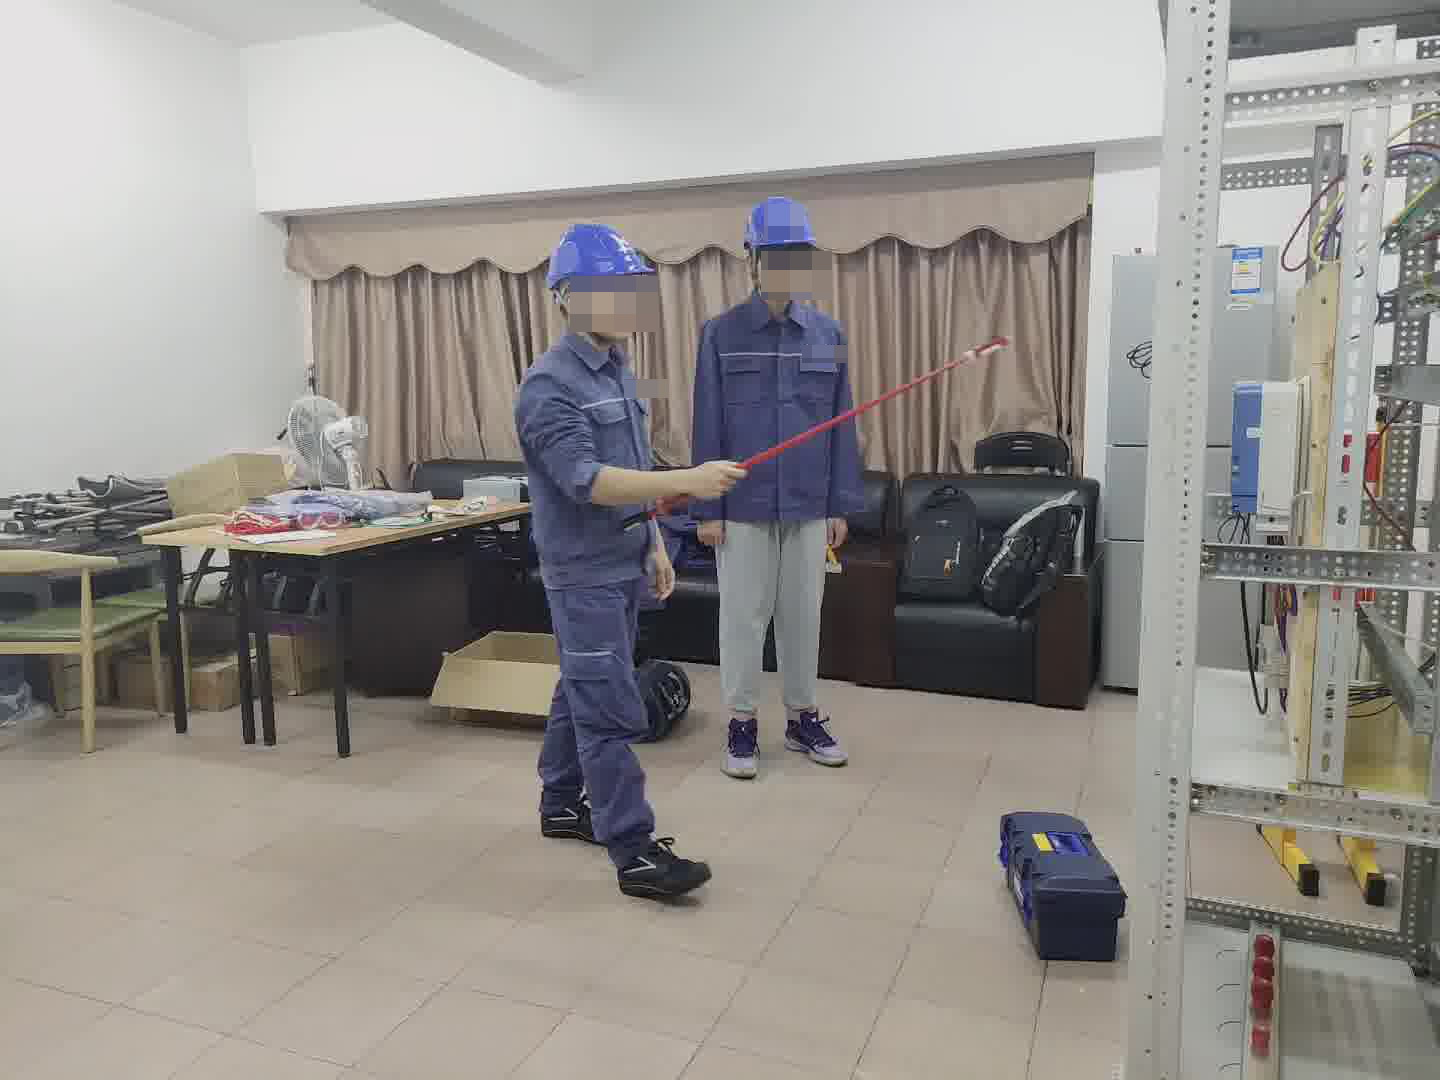downcloth: (710, 505, 839, 723)
downsuit: (538, 595, 663, 842)
halt: (542, 221, 657, 339), (745, 194, 821, 311)
hand: (690, 454, 744, 508), (650, 544, 677, 601), (692, 519, 733, 554), (824, 520, 852, 552)
inear: (554, 280, 601, 332)
person: (510, 218, 715, 908), (681, 192, 874, 784)
testrod: (627, 333, 1009, 528)
upsuit: (513, 325, 666, 589), (690, 295, 871, 519)
wronghold: (616, 446, 763, 532)
wrongtop: (581, 451, 753, 525)
